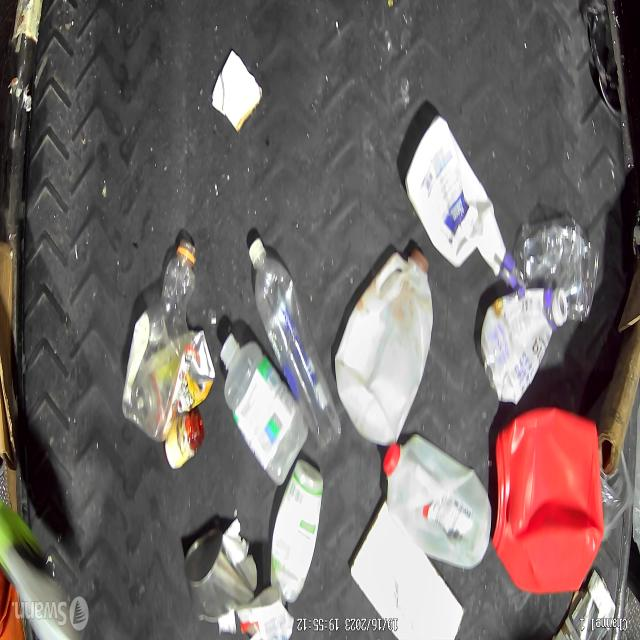can: (183, 524, 260, 624)
milk_jug: (336, 240, 432, 442), (382, 428, 494, 579)
non_white_jug: (493, 399, 604, 602), (406, 119, 524, 305)
plastic_bottle: (246, 240, 340, 454)
